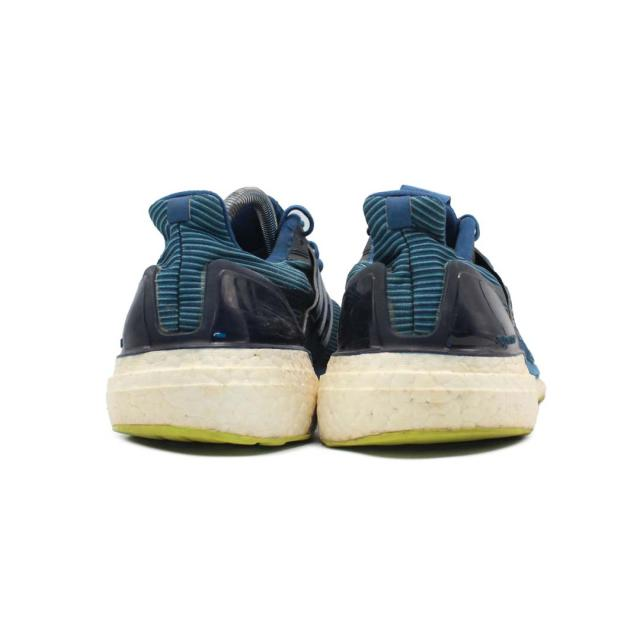heel: (108, 168, 302, 348), (330, 170, 518, 353)
midsole: (112, 351, 314, 457), (325, 351, 544, 447)
